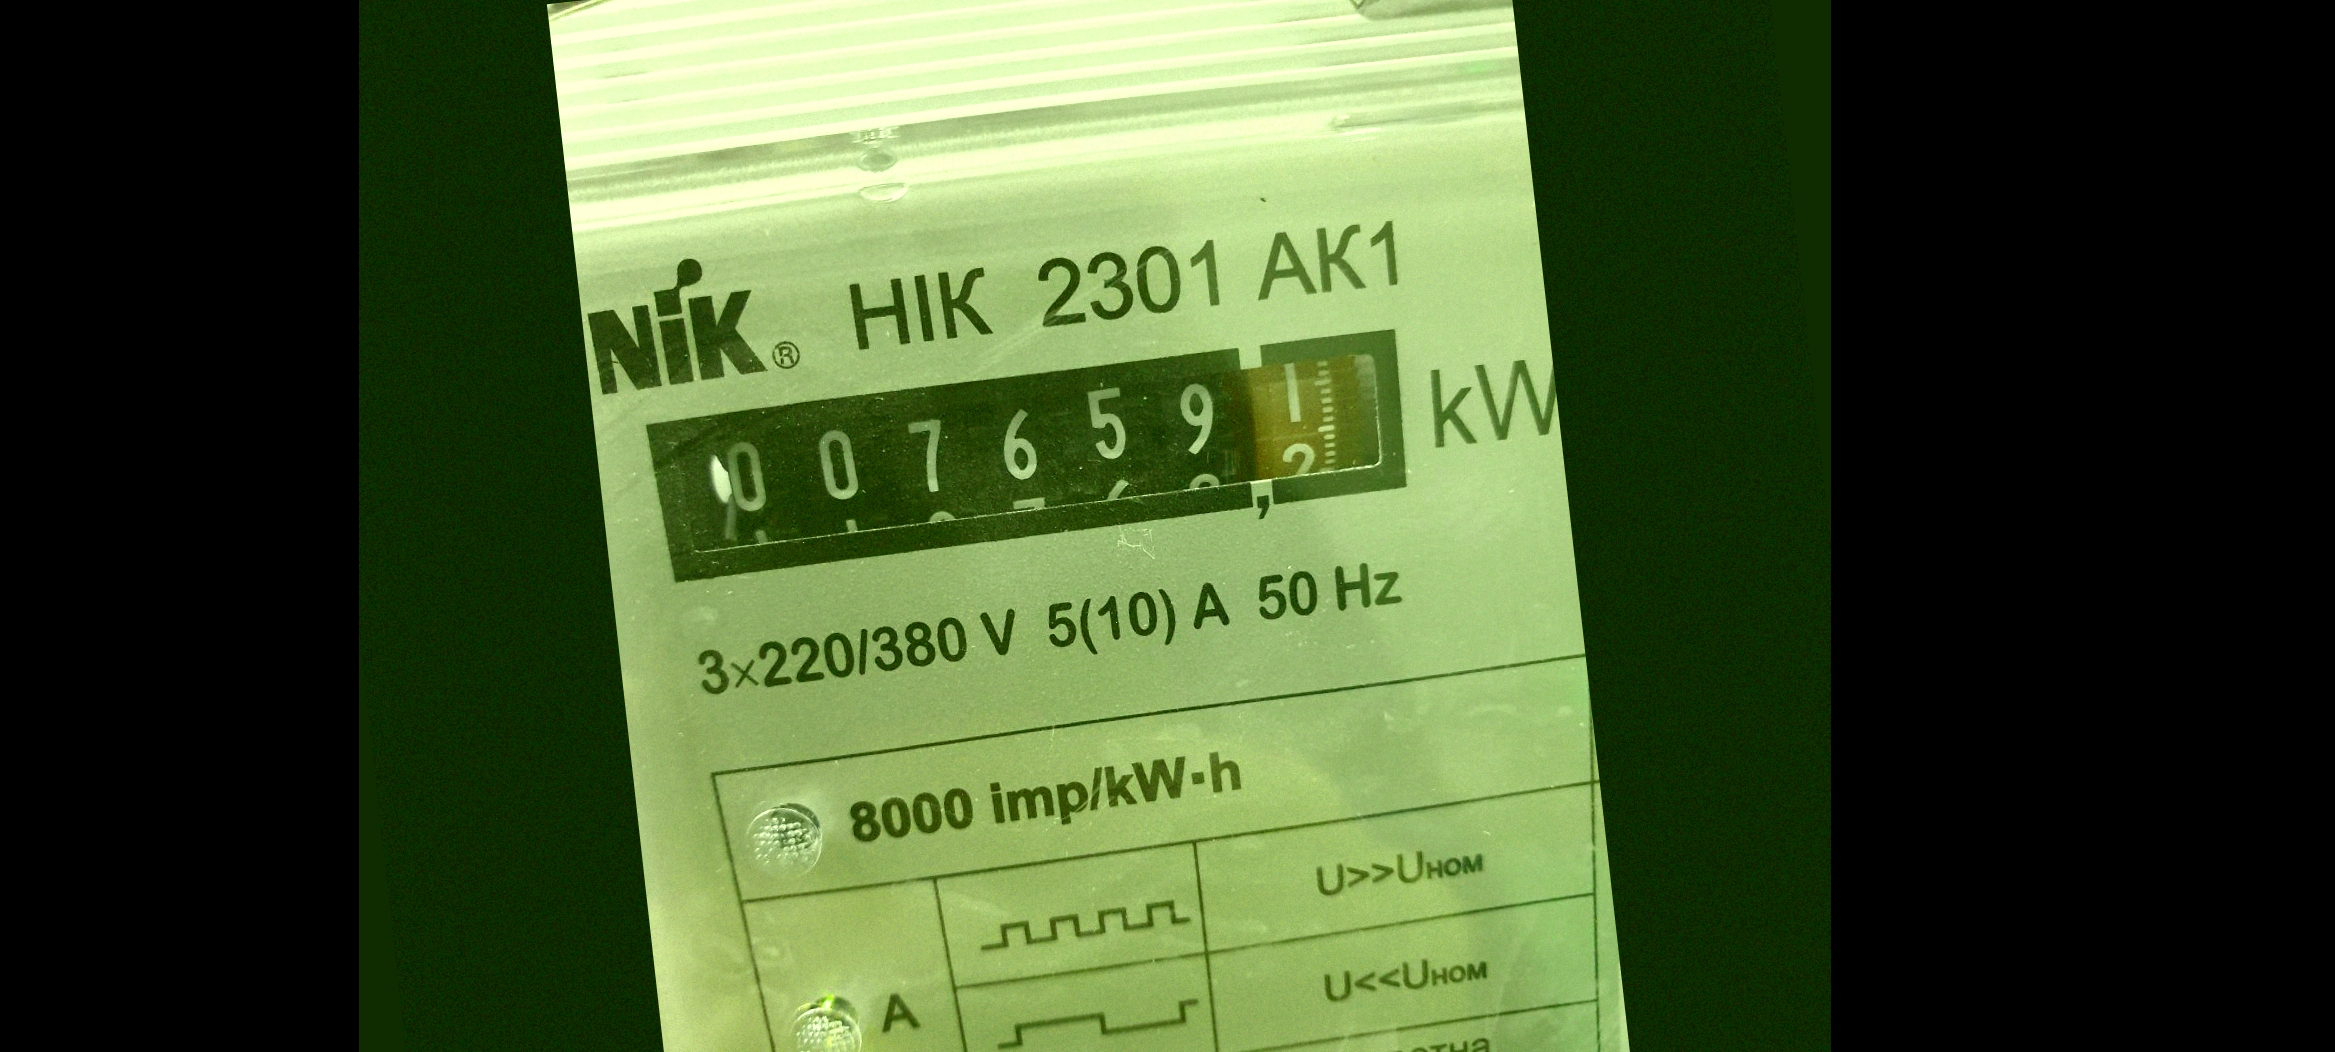0: (804, 417, 870, 508), (716, 428, 777, 523)
1: (1275, 353, 1316, 431)
5: (1080, 378, 1135, 466)
6: (987, 398, 1048, 486)
7: (902, 410, 953, 499)
9: (1172, 373, 1224, 463)
screen: (624, 305, 1437, 605)
